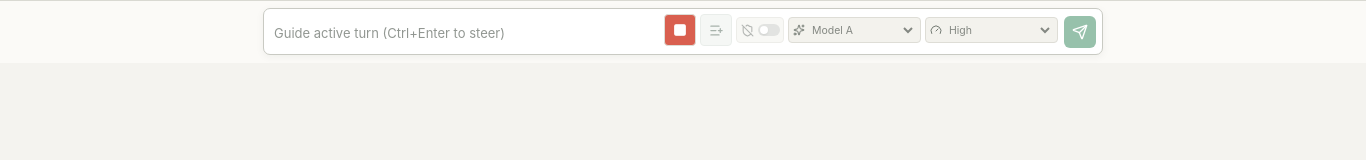
Test: Composer › manually retries failed guidance against the same captured turn
In the text box named "Message Codex": point(466, 33) [274, 17, 658, 49], type "retry this guidance"
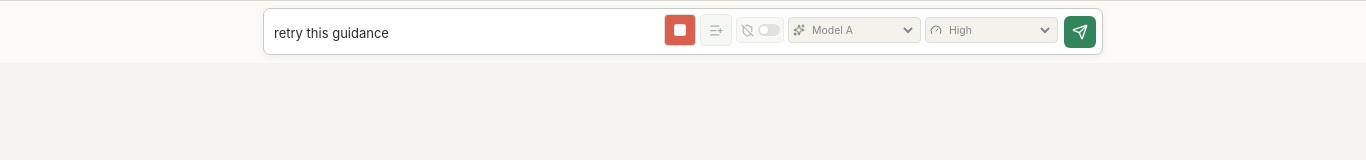
Click the button named "Steer active turn": point(1080, 32) [1064, 16, 1096, 48]
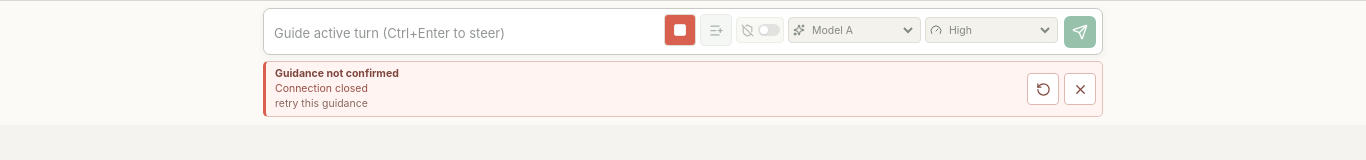
Expected: the message shows "Guidance not confirmed", [275, 67, 399, 80]
Expected: the message shows "retry this guidance", [275, 97, 368, 110]
Click the button named "Retry unconfirmed guidance": point(1043, 89) [1027, 73, 1059, 105]
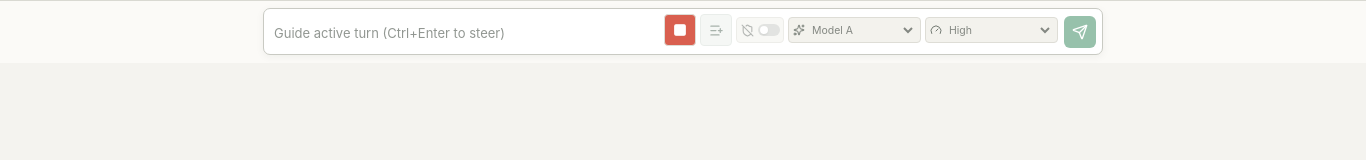
Expected: the text "Guidance not confirmed" is gone
